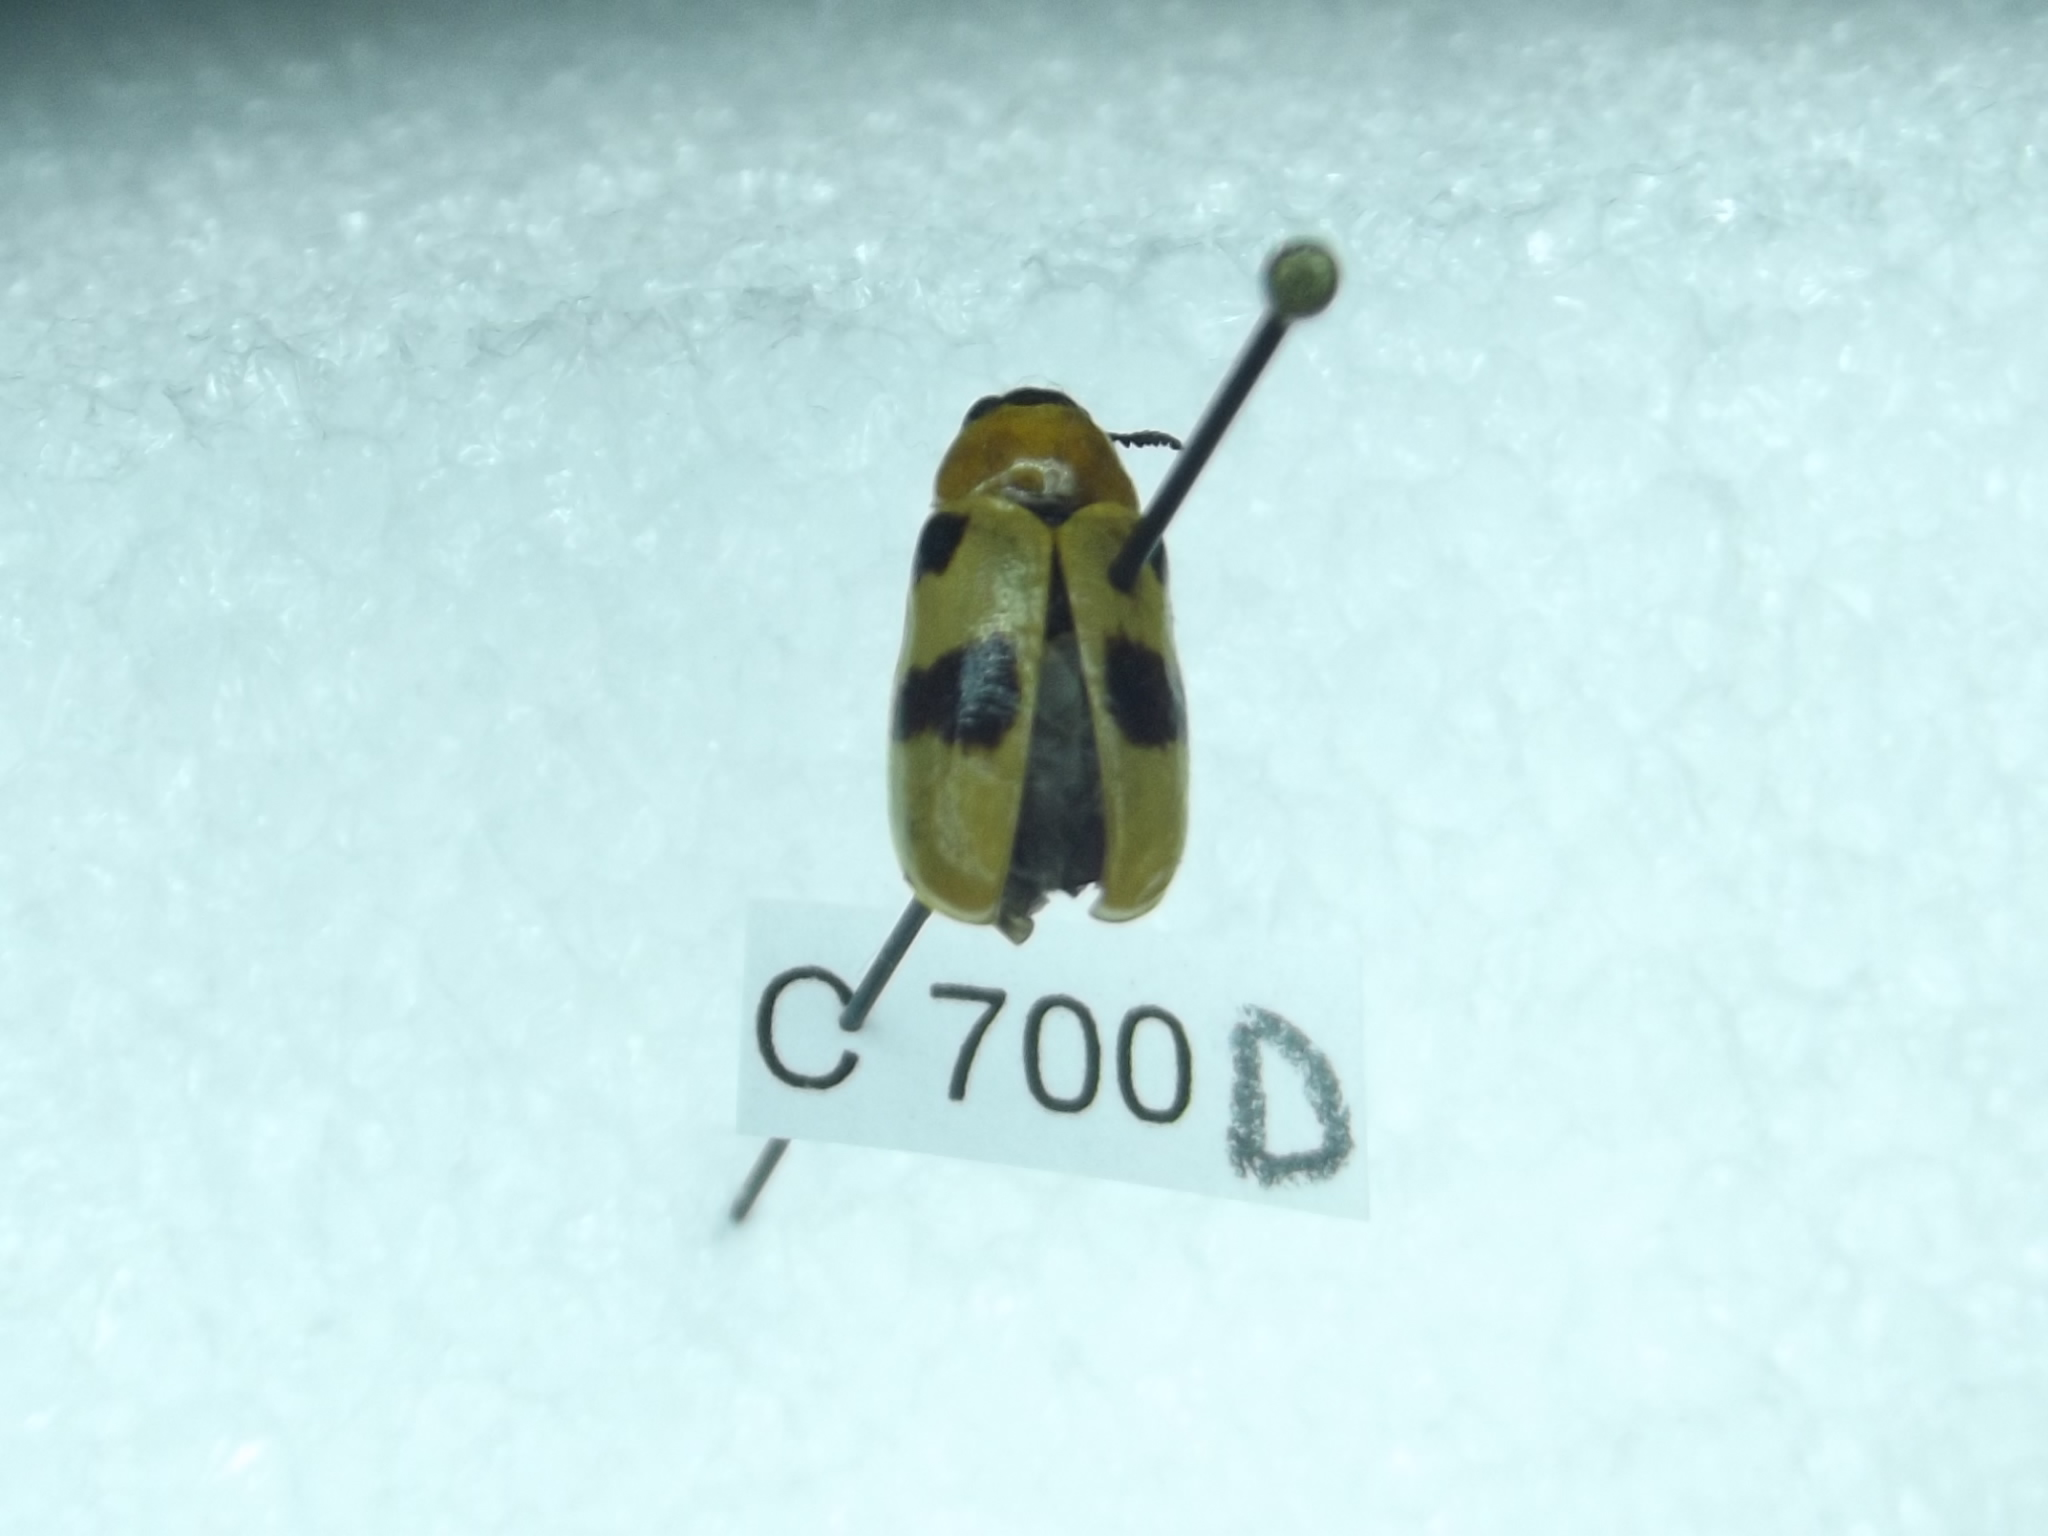Tituboea_macropus: (872, 365, 1248, 957)
